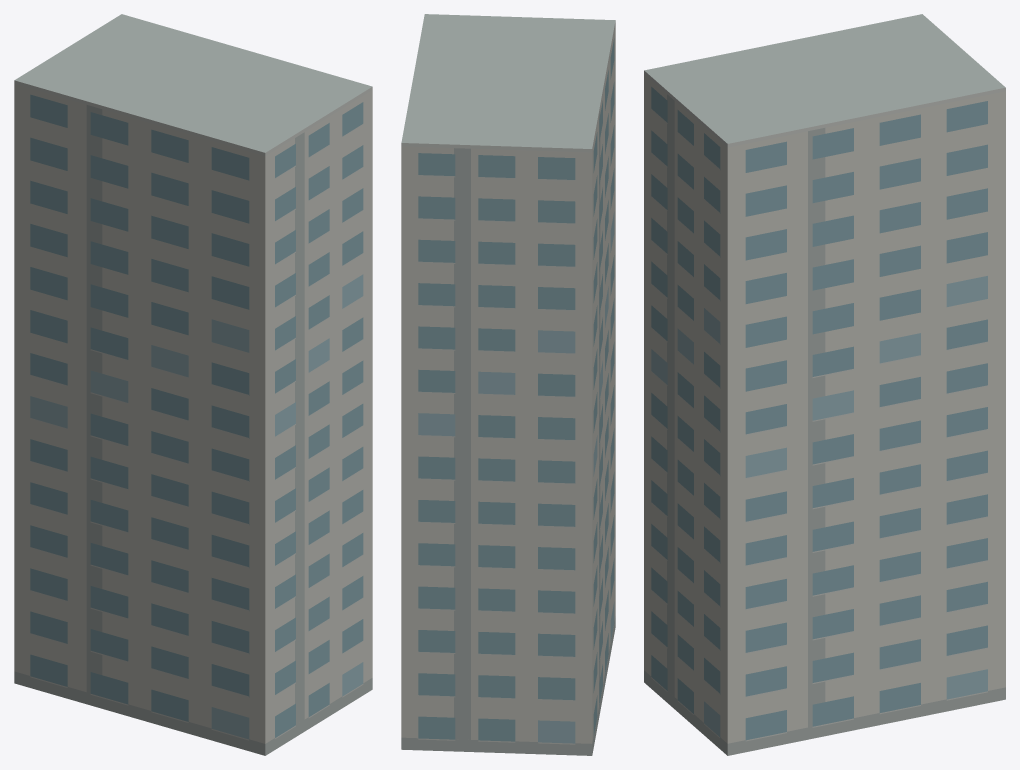
Rendered from residential-7c2e5330-c5da-4d61-bec7-15b1bd6700ec.glb.
The picture shows the model from 3 angles, left to right: view 1: azimuth 30°, elevation 25°; view 2: azimuth 150°, elevation 25°; view 3: azimuth 270°, elevation 25°; orthographic projection.
Visible parts, largest first — view 1: residential-7c2e5330-c5da-4d61-bec7-15b1bd6700ec.tmp; view 2: residential-7c2e5330-c5da-4d61-bec7-15b1bd6700ec.tmp; view 3: residential-7c2e5330-c5da-4d61-bec7-15b1bd6700ec.tmp.
Boxes of the visible parts, x1,y1,x2,y2 form: residential-7c2e5330-c5da-4d61-bec7-15b1bd6700ec.tmp: (14,14,372,755); residential-7c2e5330-c5da-4d61-bec7-15b1bd6700ec.tmp: (401,14,615,755); residential-7c2e5330-c5da-4d61-bec7-15b1bd6700ec.tmp: (644,14,1005,755).
Size of the model in its own units: 19.13 by 42 by 22.51.
